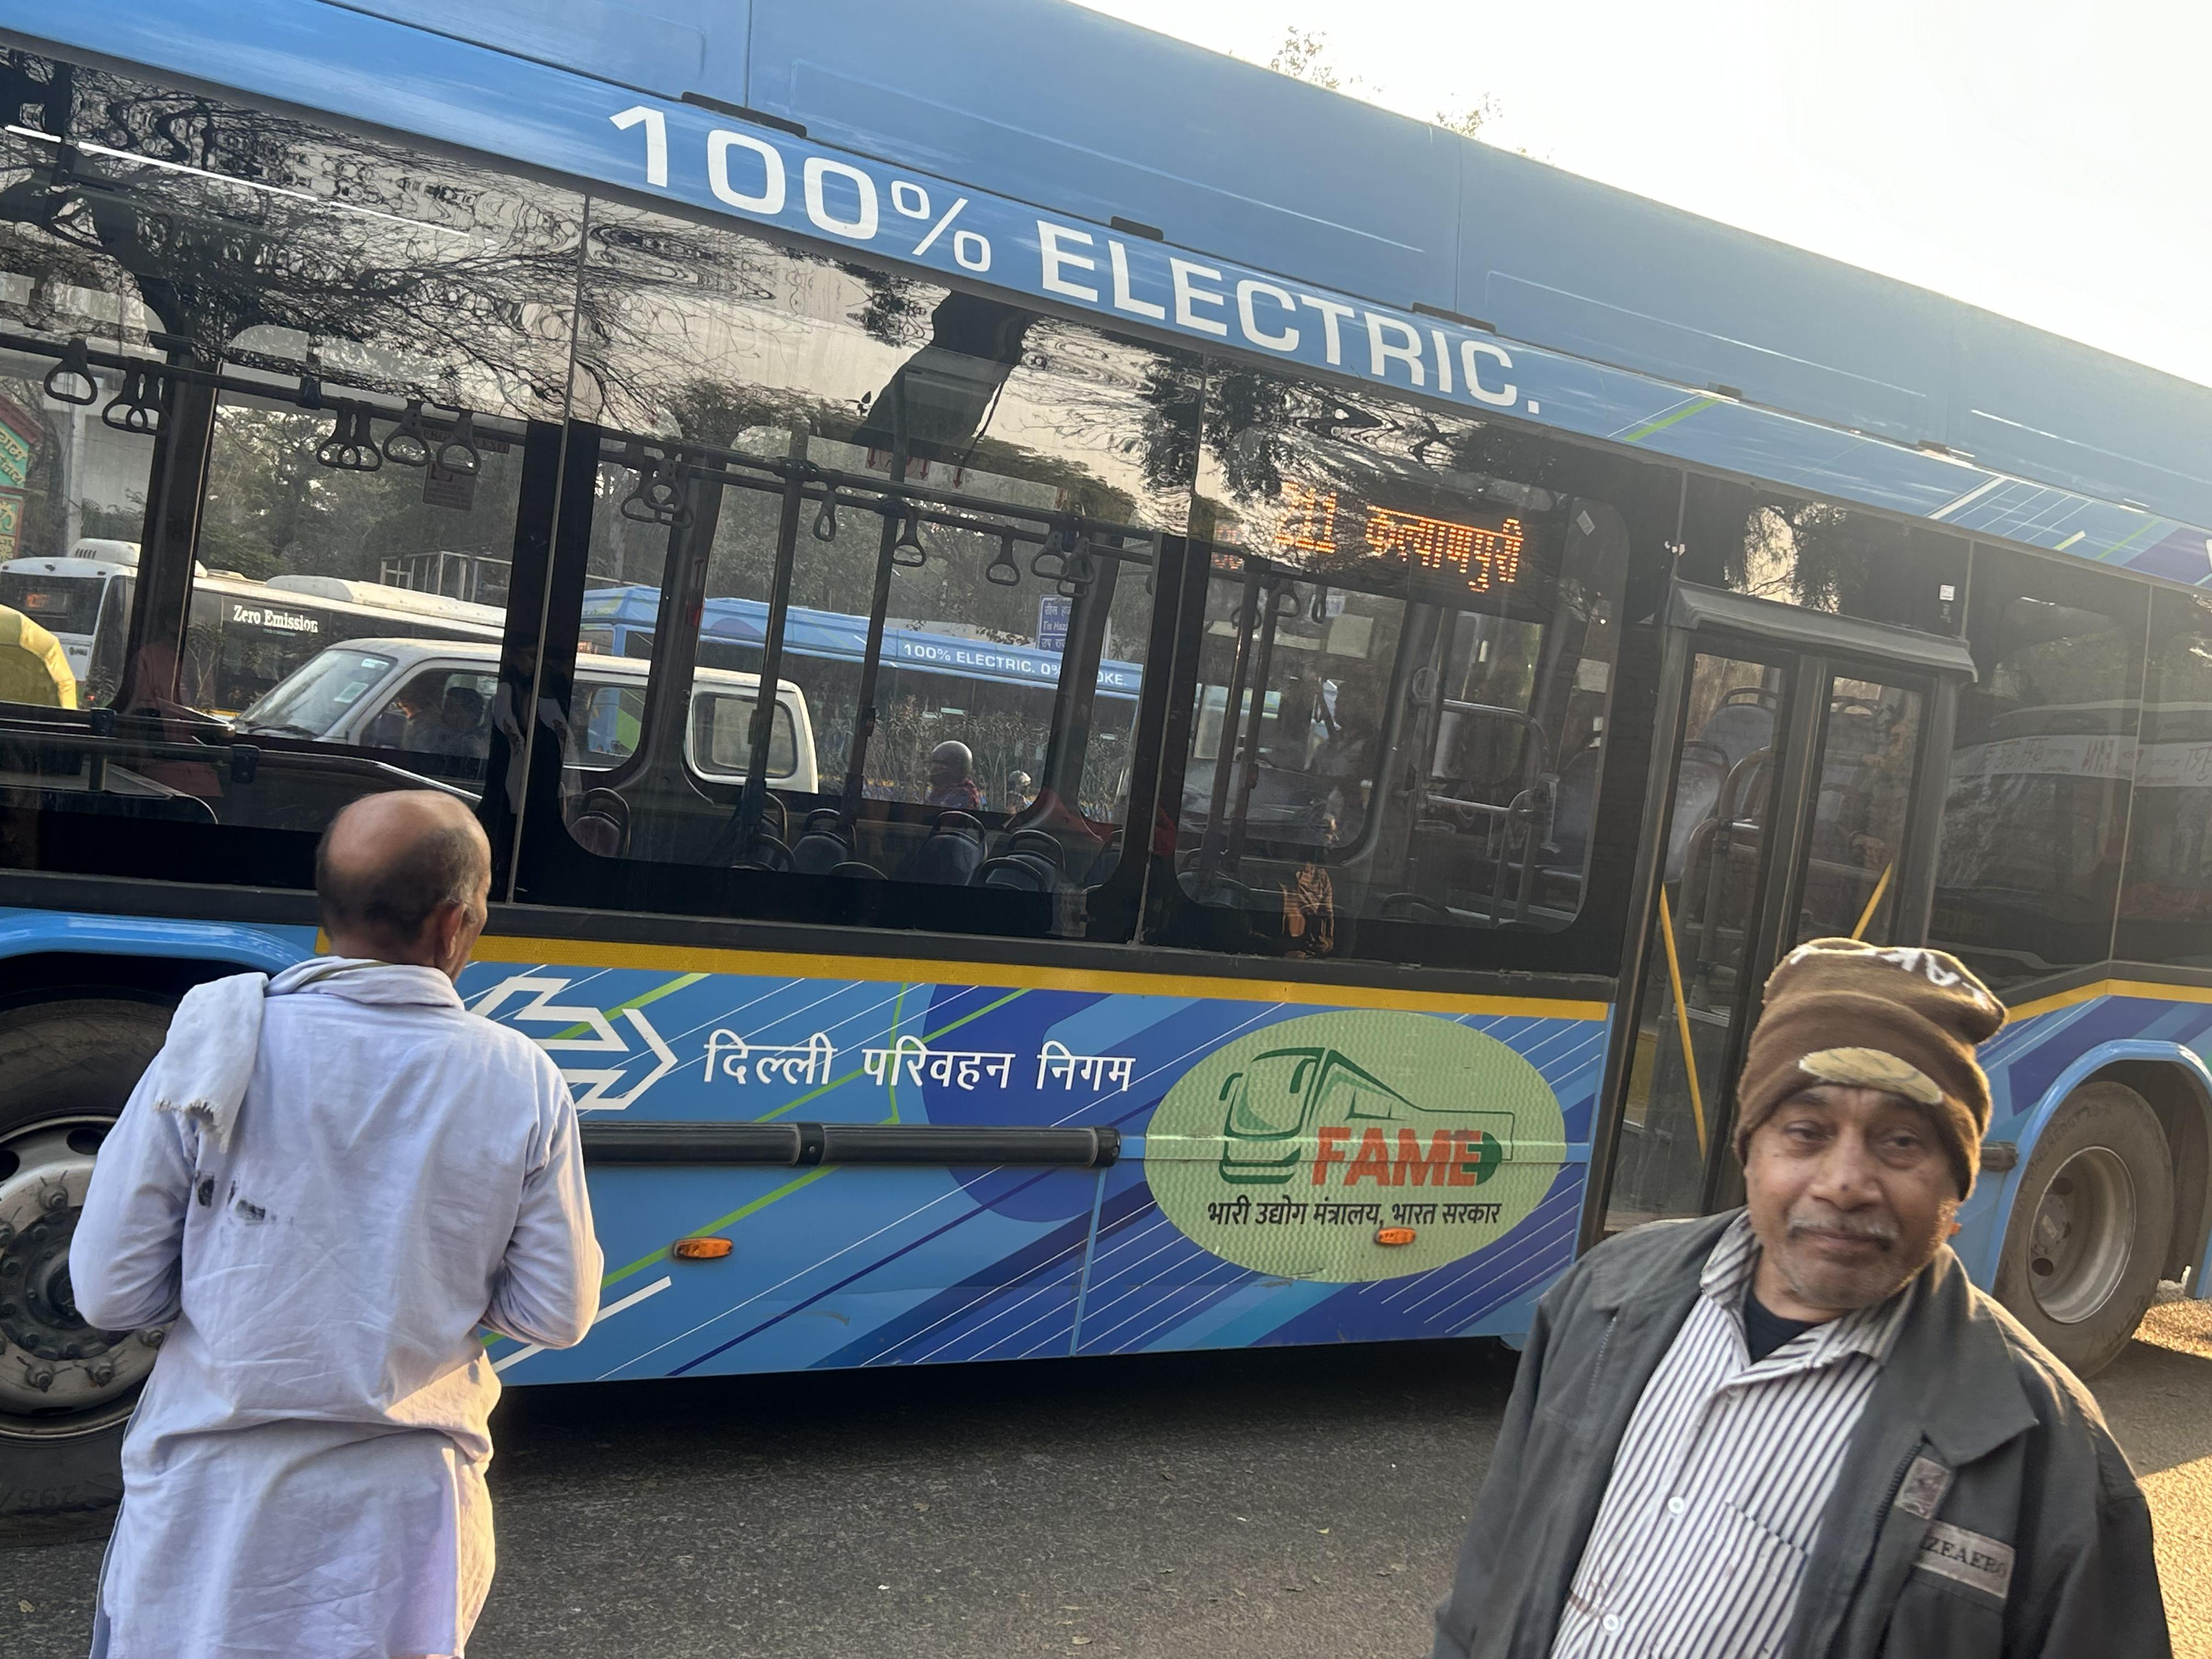Bus: (0, 0, 2212, 1509)
Display Board: (1251, 439, 1580, 620)
